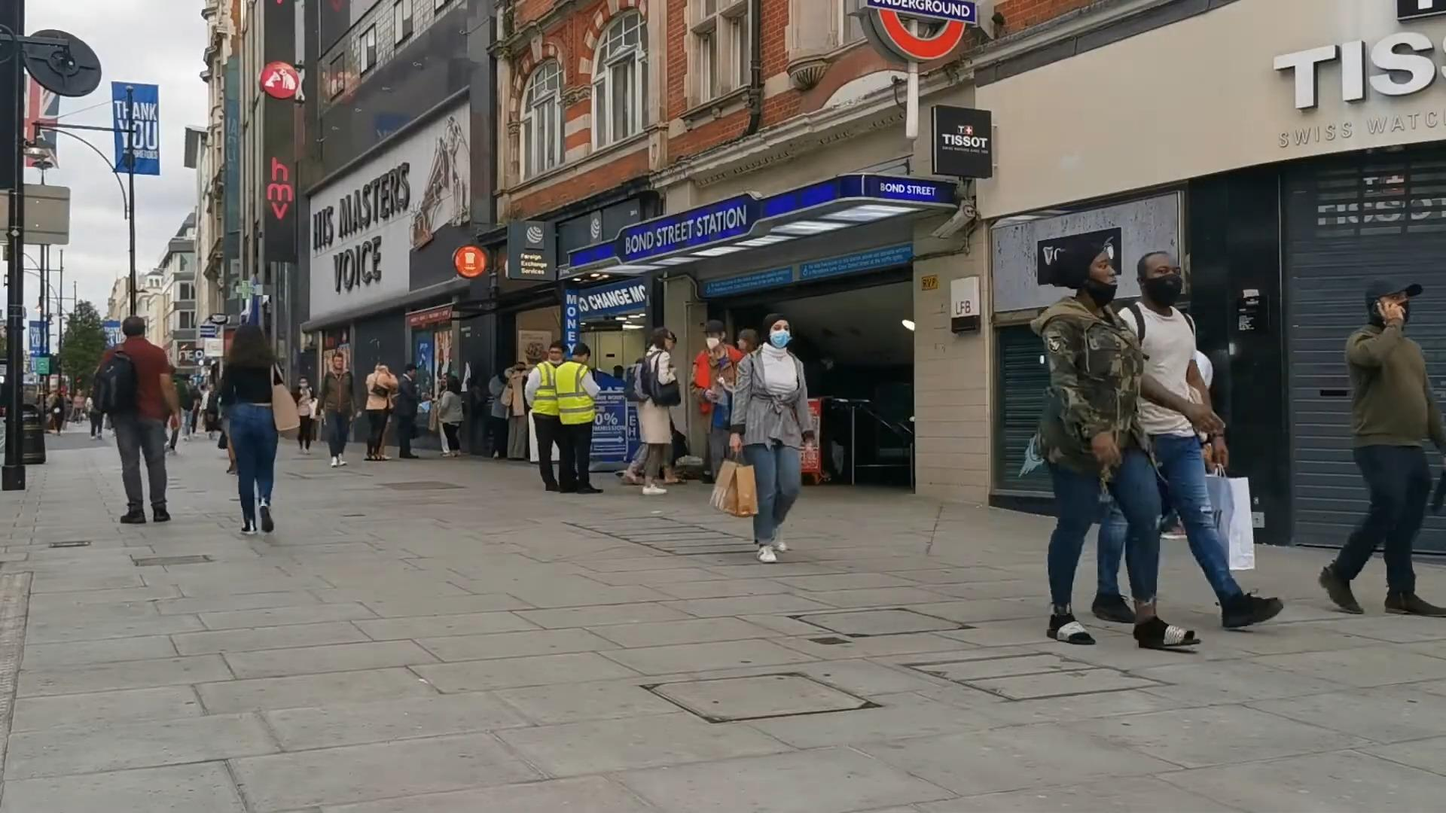no-helmet: (1050, 240, 1118, 308), (1365, 277, 1423, 331), (1136, 251, 1182, 308), (229, 323, 272, 360), (762, 313, 793, 349), (645, 326, 673, 351), (704, 320, 726, 350), (737, 329, 761, 354), (122, 316, 145, 338), (548, 341, 568, 365), (572, 342, 590, 364), (446, 375, 461, 394), (332, 352, 343, 370), (297, 375, 310, 390), (404, 363, 416, 379)
